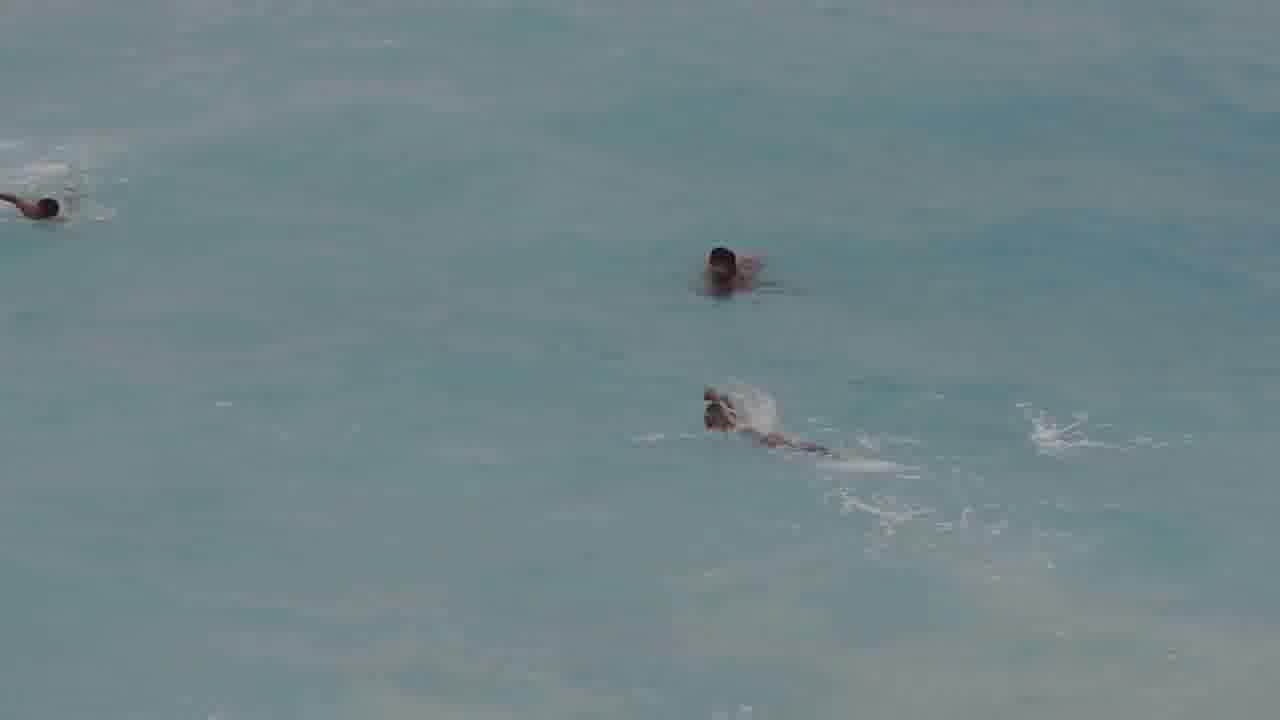human: (692, 378, 822, 456), (679, 238, 771, 300), (0, 178, 71, 227)
